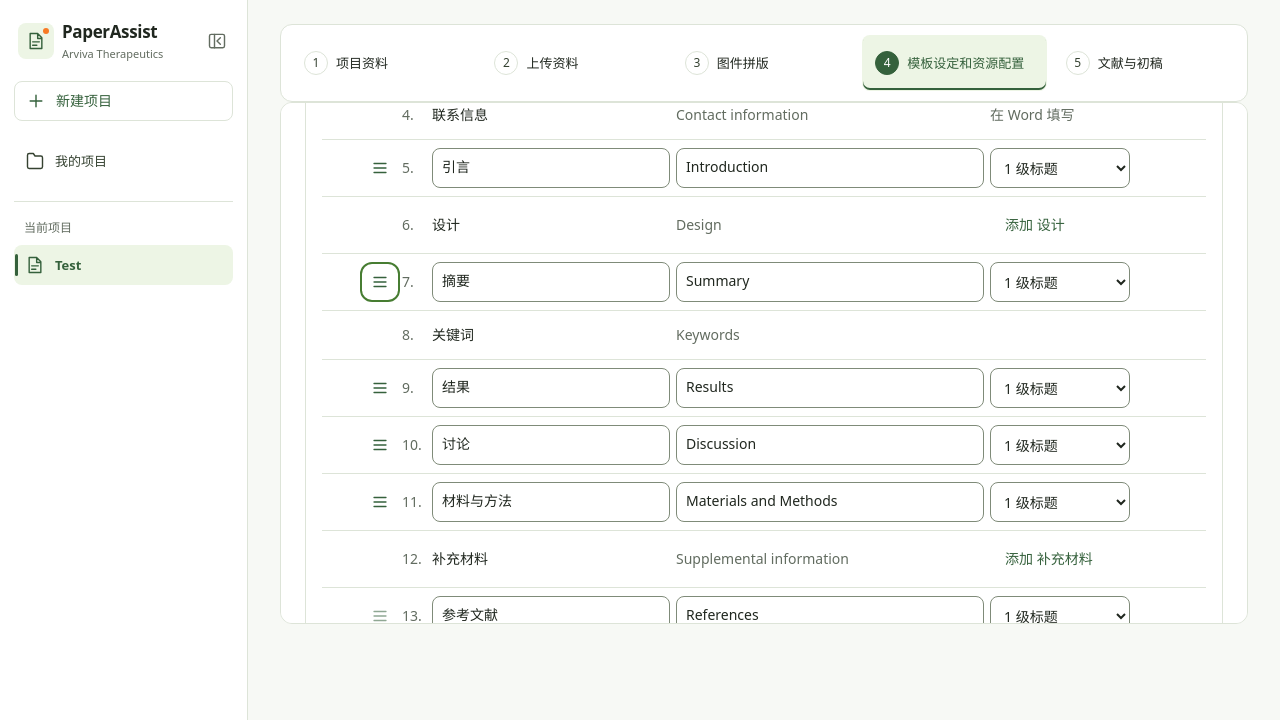
shows the full Cell Press outline without writing tips and adds optional sections on request
Earlier steps of the test are not shown.
(page scrolled)
Expected: the text box named "第 5 项英文标题" holds "Introduction", x1=676 y1=148 x2=984 y2=188
Expected: the text box named "第 7 项英文标题" holds "Summary", x1=676 y1=262 x2=984 y2=302
Press ArrowUp in the button named "拖动 摘要", box x1=364 y1=266 x2=396 y2=298
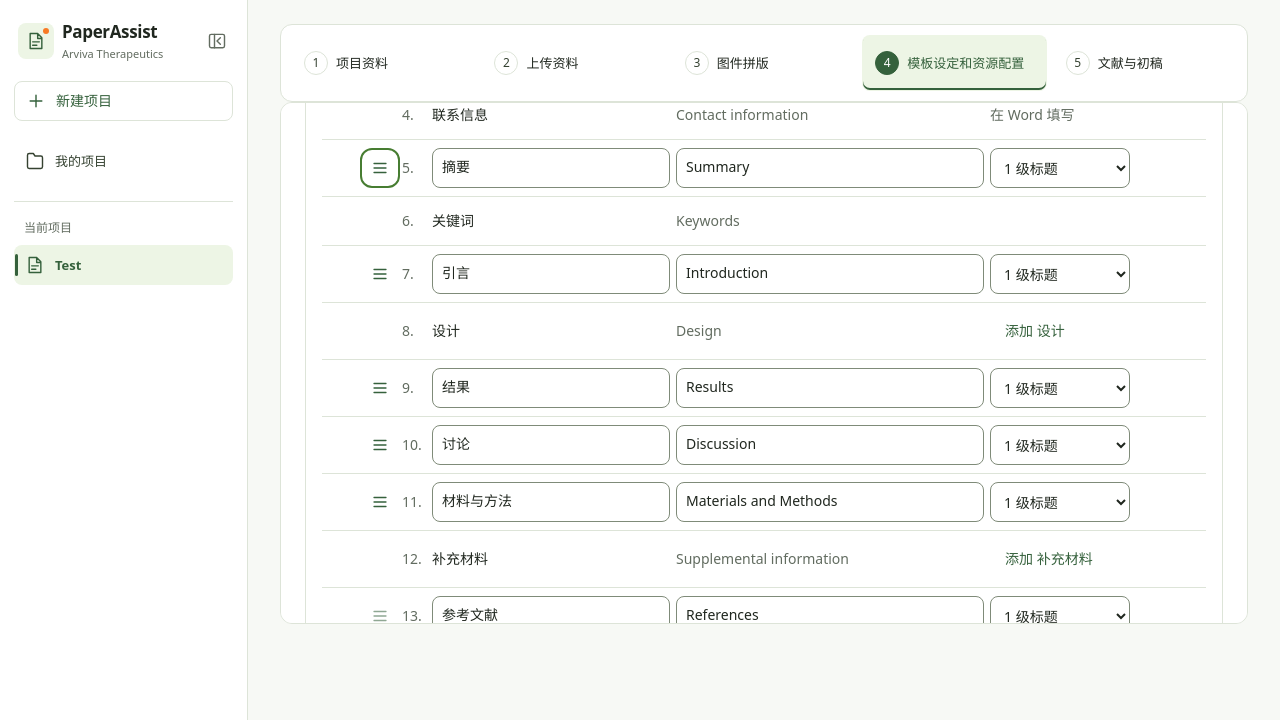
Click the button "添加 设计" at (1035,331), box x1=990 y1=311 x2=1080 y2=351
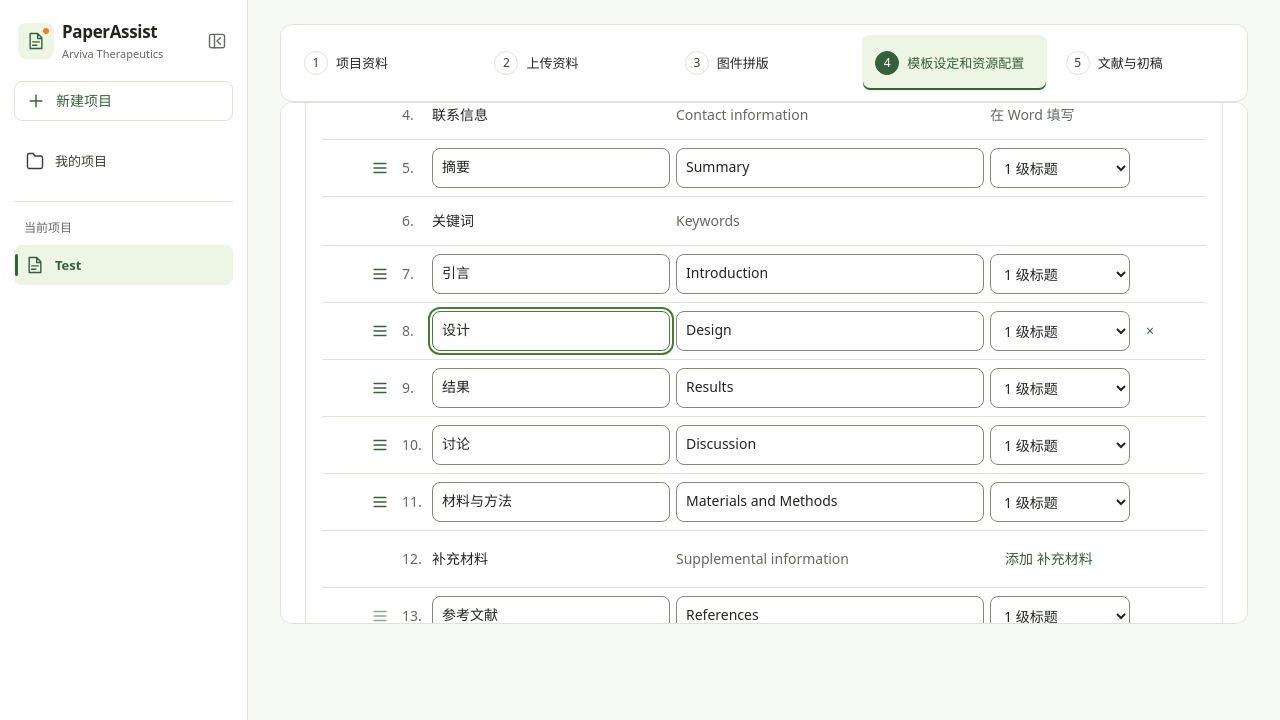
Result: the text box named "第 8 项英文标题" holds "Design" at x1=676 y1=311 x2=984 y2=351
Click the button named "删除第 8 章" at (1150,331), box x1=1136 y1=315 x2=1164 y2=347
(page scrolled)
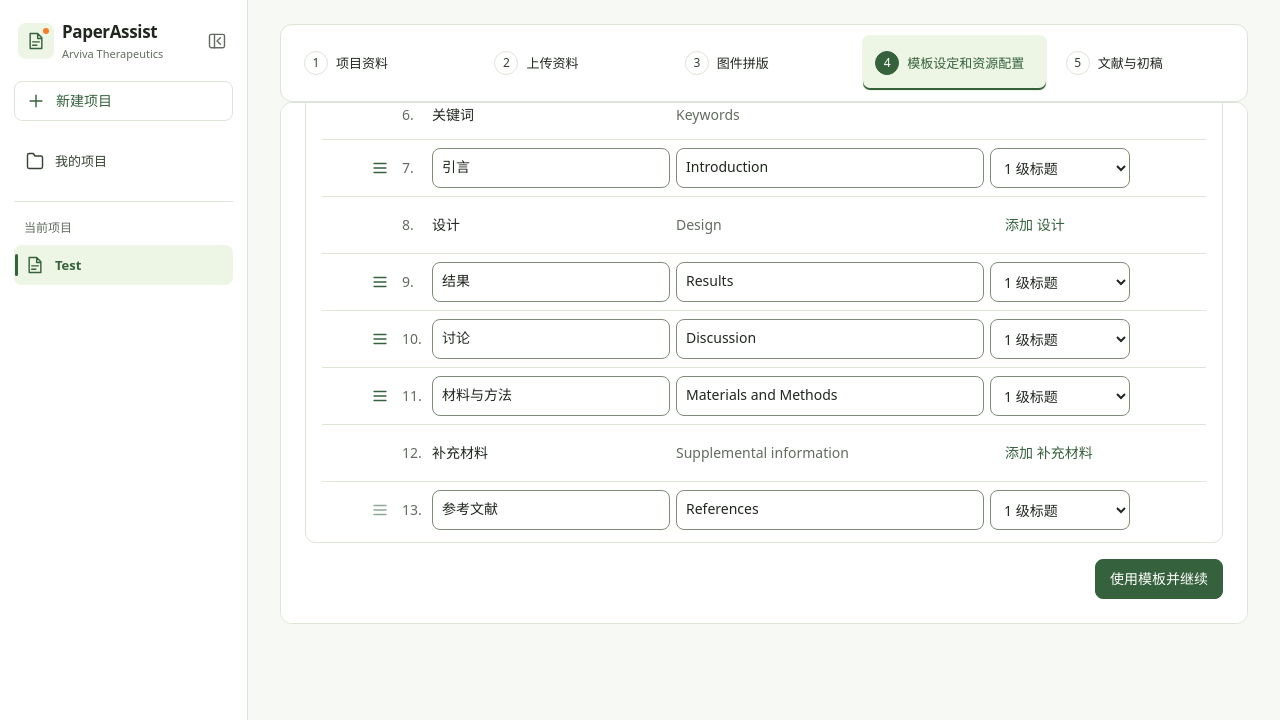
Expected: the text box named "第 9 项英文标题" holds "Results", x1=676 y1=262 x2=984 y2=302
Result: the button "添加 设计" is shown at x1=990 y1=205 x2=1080 y2=245
Click the button "添加 补充材料" at (1049,453), box x1=990 y1=433 x2=1108 y2=473
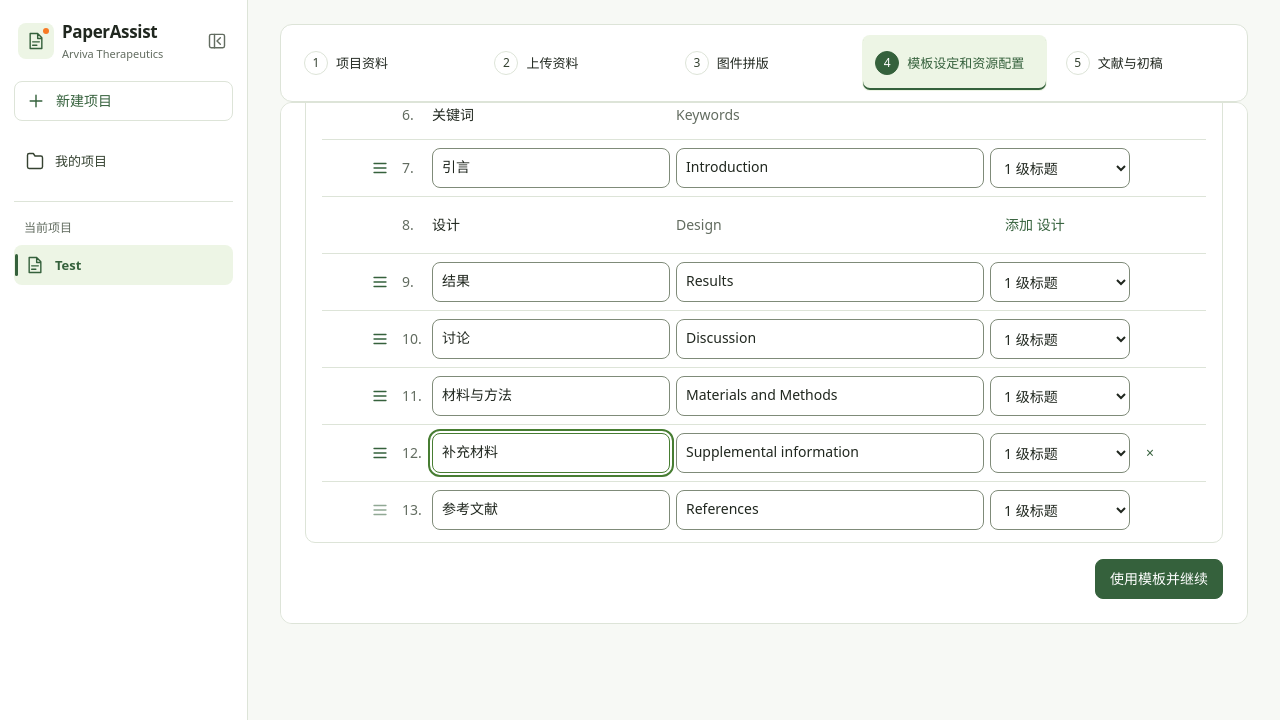
Click the button "使用模板并继续" at (1159,579), box x1=1095 y1=559 x2=1223 y2=599
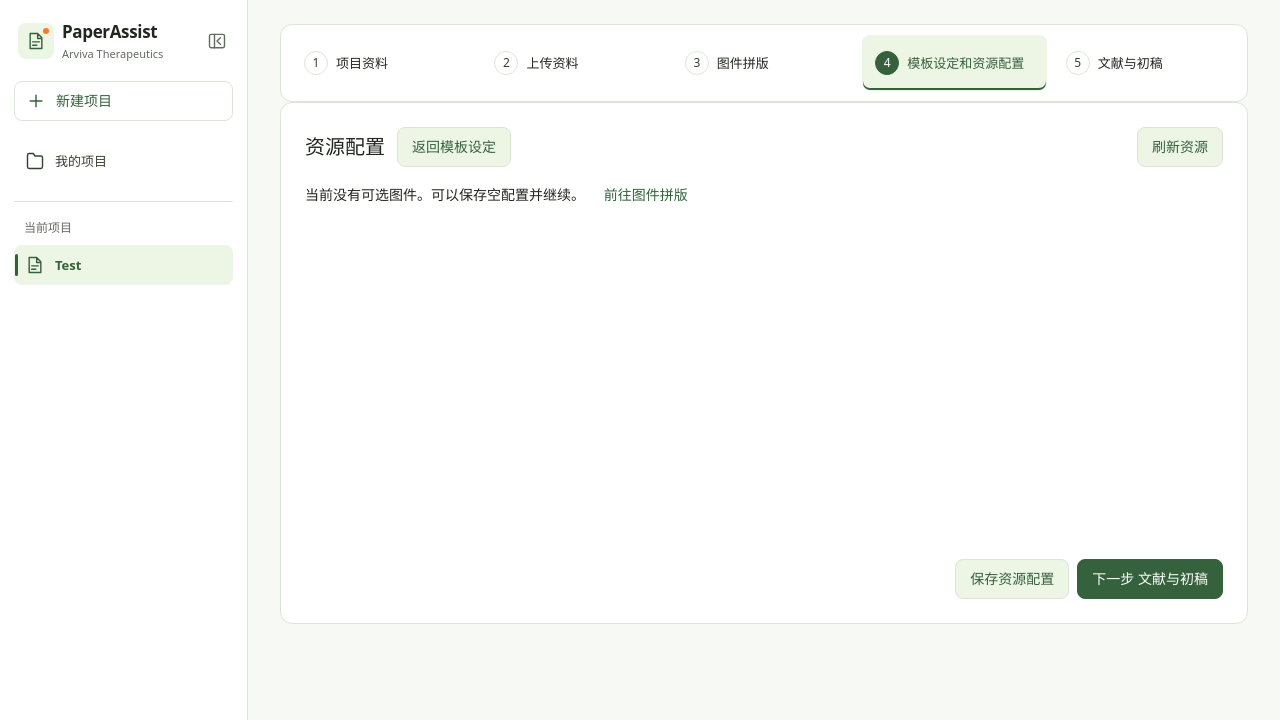
Result: the heading "资源配置" is shown at x1=305 y1=133 x2=385 y2=161
